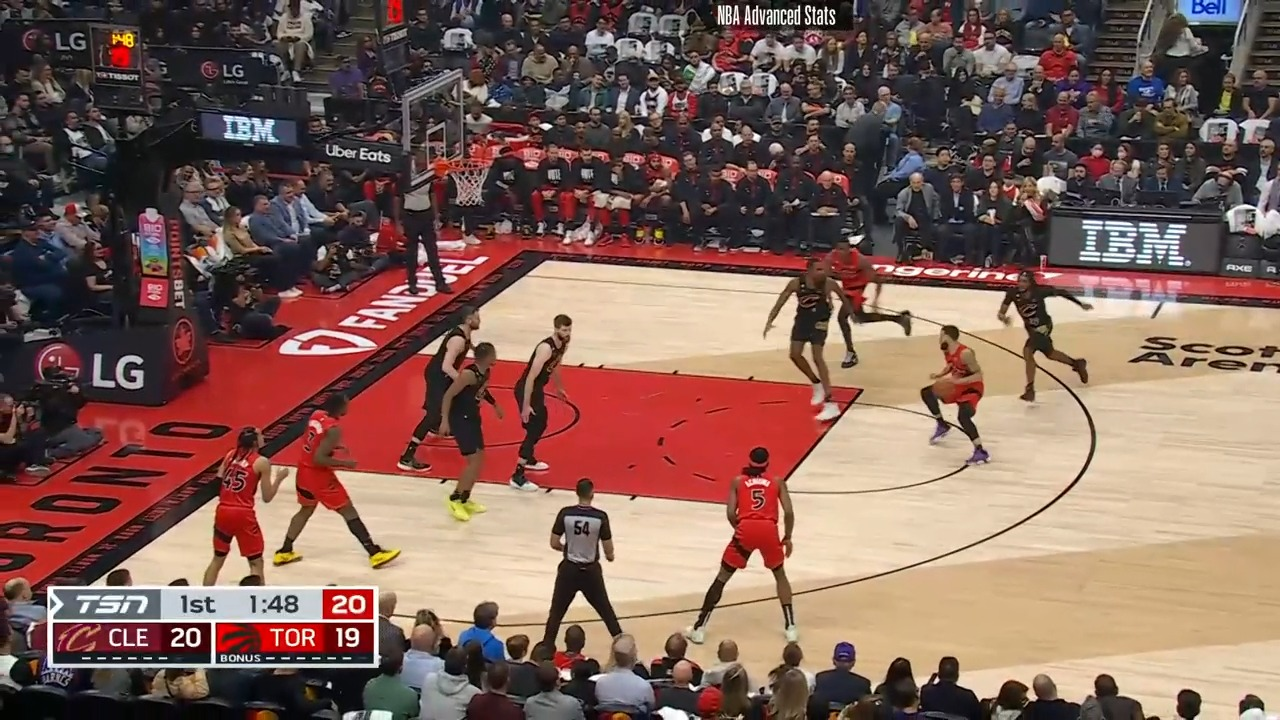net: (430, 153, 490, 207)
player: (685, 441, 803, 647), (269, 388, 392, 571), (762, 253, 848, 424), (995, 263, 1093, 406), (430, 342, 504, 526), (202, 427, 286, 589), (403, 307, 482, 476), (512, 312, 585, 489), (822, 239, 914, 372), (927, 321, 997, 470)
referee: (537, 475, 630, 653), (396, 168, 450, 297)
